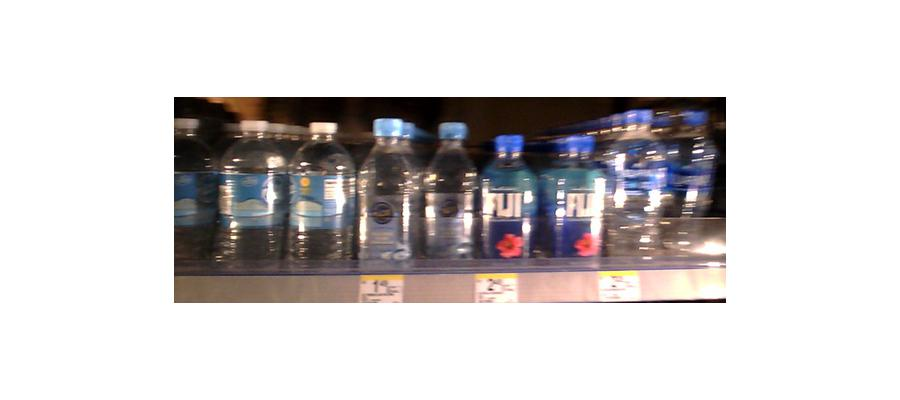bottle: (356, 112, 420, 268), (288, 117, 354, 265), (603, 116, 668, 261), (220, 127, 285, 267), (420, 121, 478, 263), (480, 132, 538, 267), (546, 135, 602, 261), (172, 110, 215, 263)
